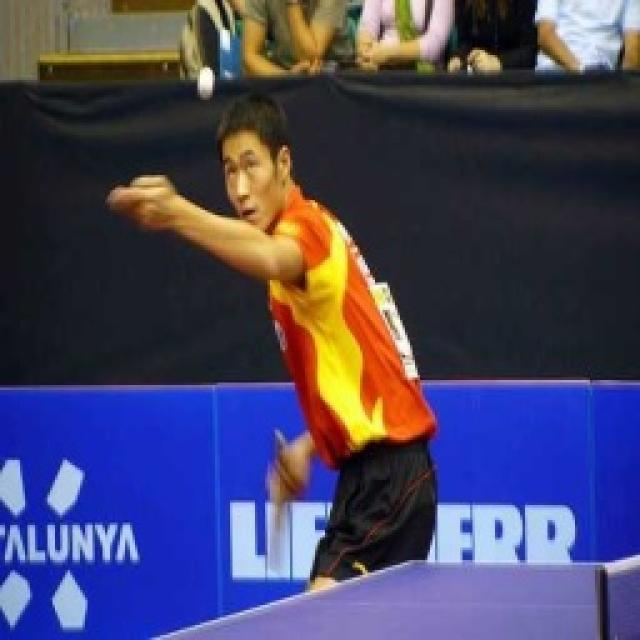oball: (196, 67, 217, 100)
